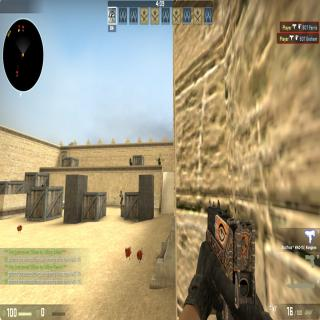CT-Body: (128, 157, 132, 165), (158, 157, 161, 165)
CT-Head: (129, 157, 131, 161), (158, 157, 160, 160)
T-Body: (119, 189, 123, 207)
T-Head: (120, 189, 121, 194)
